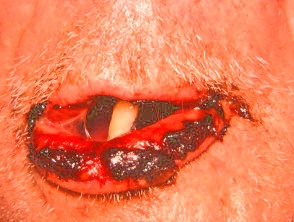SJS-TEN: (12, 75, 270, 222)
